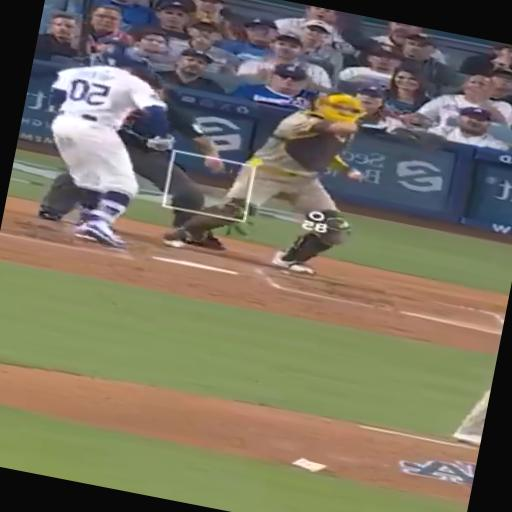bat: (116, 126, 161, 146)
